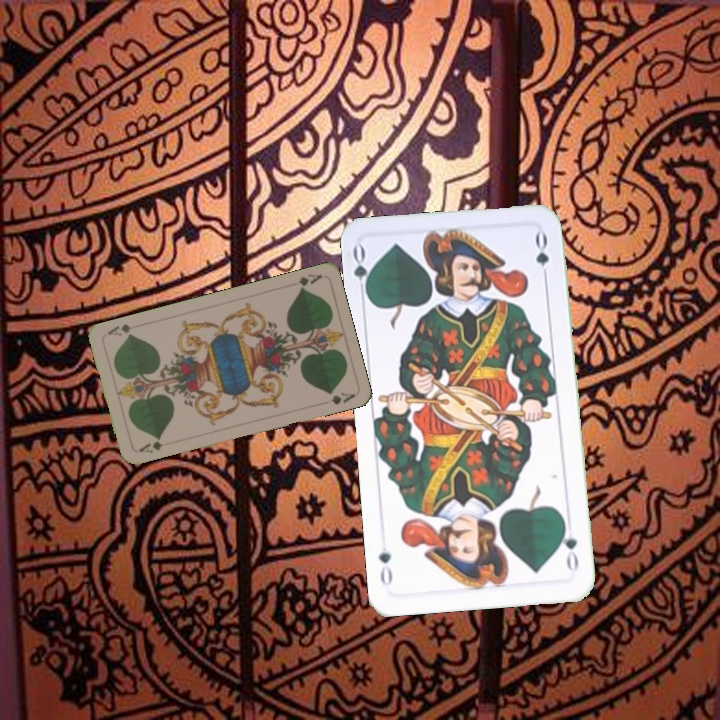GA: (135, 435, 174, 456), (294, 270, 324, 293)
GO: (349, 242, 376, 302), (557, 517, 581, 576)
